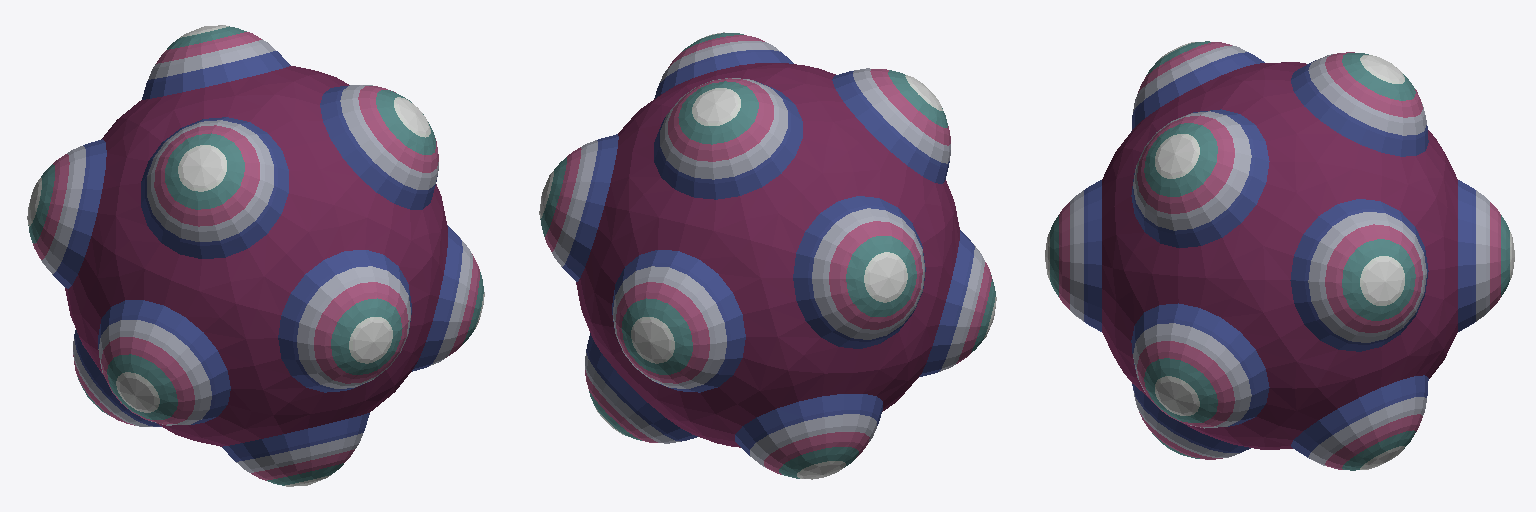
3 renders of one model, left to right at view 1: azimuth 30°, elevation 25°; view 2: azimuth 150°, elevation 25°; view 3: azimuth 270°, elevation 25°, orthographic.
Visible parts, largest first — view 1: core_09_0; view 2: core_09_0; view 3: core_09_0.
Part boxes in pixels (left/top/right/bottom): core_09_0: left=27, top=25, right=484, bottom=486; core_09_0: left=539, top=32, right=996, bottom=479; core_09_0: left=1045, top=41, right=1514, bottom=470.
Size of the model in its own units: 0.0478 by 0.0494 by 0.0537.
Materials: 1 (1 with a texture image).